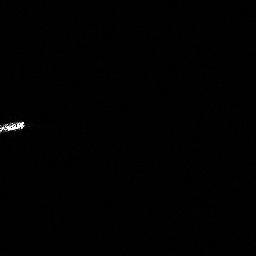ship: (1, 120, 25, 133)
